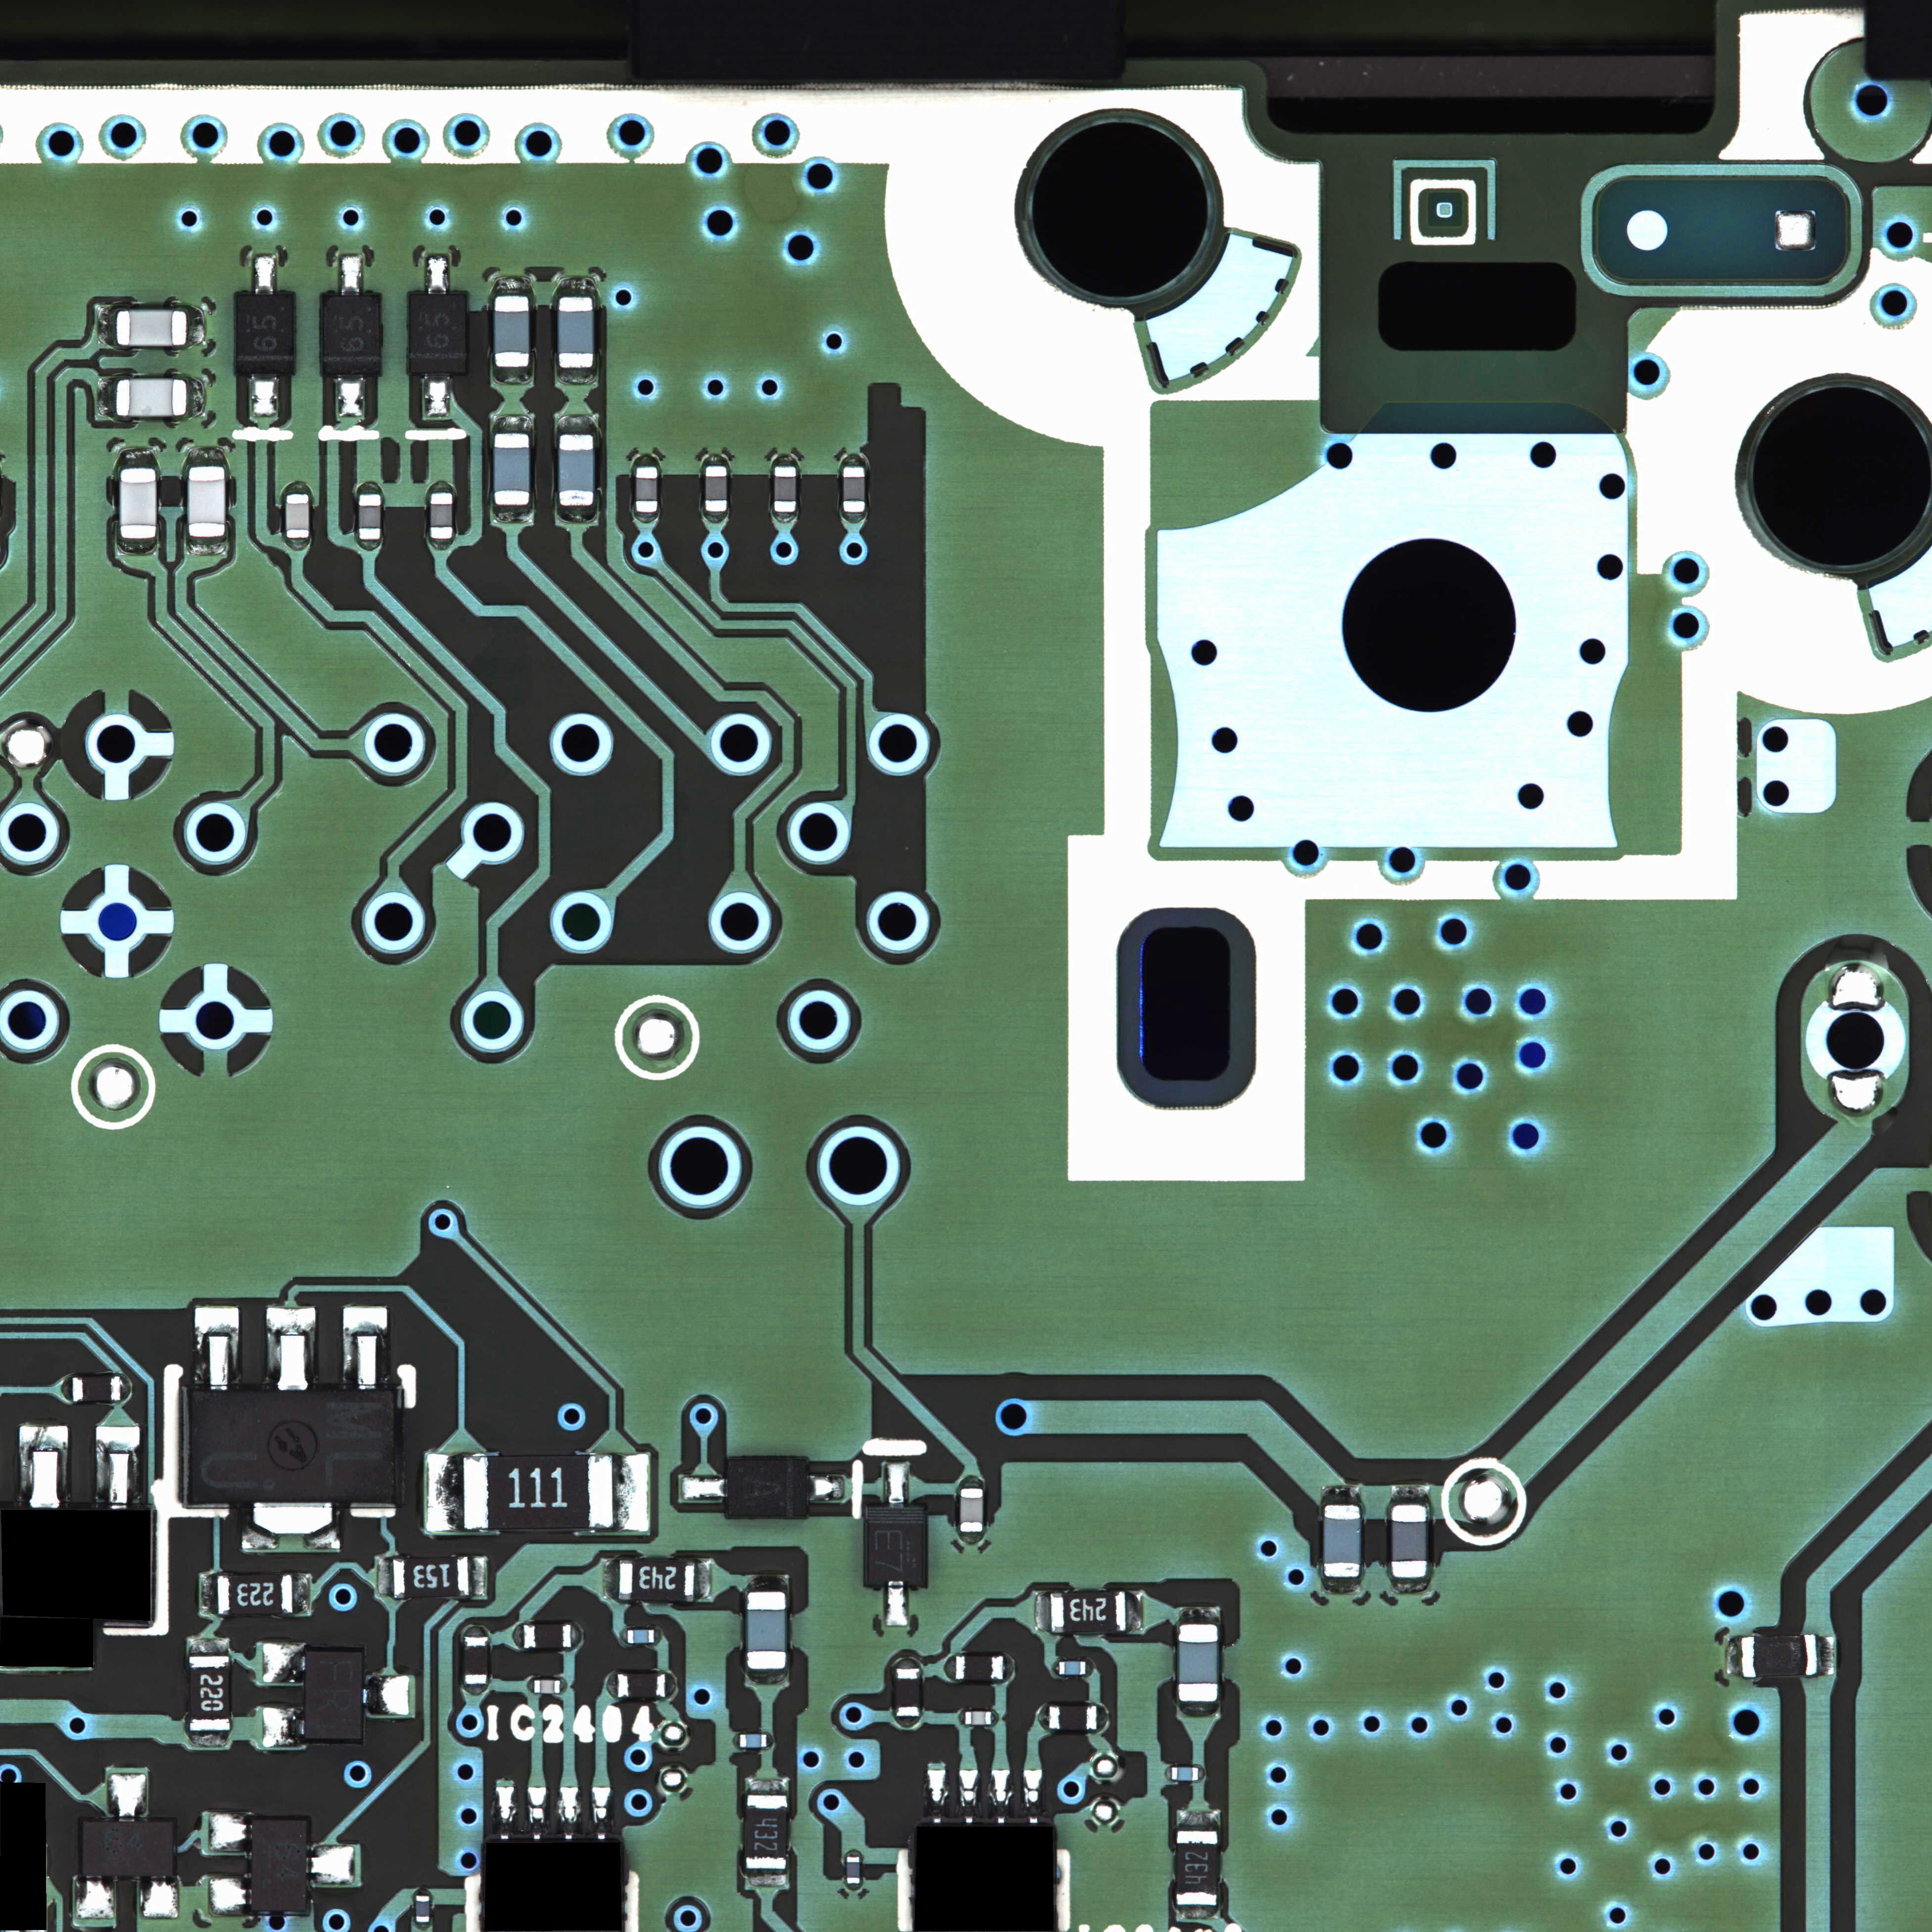Package: (191, 1391, 393, 1502), (464, 1458, 614, 1529), (253, 1819, 306, 1911), (306, 1652, 363, 1737), (83, 1822, 173, 1875), (410, 295, 467, 375), (324, 295, 379, 375), (239, 295, 294, 373), (729, 1461, 807, 1516), (867, 1507, 924, 1582), (1178, 1624, 1219, 1702), (619, 1559, 694, 1601), (188, 1656, 230, 1730), (1743, 1635, 1817, 1677), (747, 1796, 787, 1870), (1177, 1831, 1217, 1905), (747, 1592, 786, 1668), (395, 1557, 469, 1596), (1053, 1592, 1125, 1631), (218, 1576, 292, 1614), (1323, 1504, 1361, 1576), (1391, 1506, 1428, 1578), (494, 295, 531, 366), (557, 297, 594, 368), (188, 467, 225, 538), (494, 433, 529, 506), (117, 310, 188, 345), (117, 380, 188, 416), (559, 435, 594, 506), (120, 469, 156, 538), (73, 1376, 120, 1401), (955, 1656, 1003, 1681), (895, 1668, 920, 1716), (428, 492, 453, 538), (524, 1624, 571, 1647), (465, 1637, 488, 1684), (617, 1674, 665, 1697), (1051, 1706, 1097, 1729), (961, 1488, 984, 1532), (359, 494, 380, 540), (706, 465, 727, 511), (775, 465, 796, 511), (287, 494, 308, 538), (844, 467, 865, 511), (637, 467, 656, 511), (846, 1856, 860, 1884), (628, 1629, 655, 1644), (416, 1895, 430, 1921), (740, 1734, 768, 1746), (1171, 1767, 1200, 1780), (534, 1681, 561, 1693), (1060, 1661, 1086, 1674), (964, 1713, 991, 1725)
Solder: (242, 1504, 340, 1548), (265, 1307, 317, 1391), (18, 1424, 69, 1506), (195, 1307, 239, 1391), (343, 1307, 387, 1391), (97, 1426, 142, 1509), (428, 1453, 464, 1532), (614, 1454, 649, 1532), (108, 1773, 147, 1822), (363, 1675, 409, 1716), (308, 1845, 356, 1884), (209, 1877, 253, 1918), (262, 1707, 306, 1748), (209, 1812, 251, 1852), (264, 1642, 306, 1683), (76, 1877, 115, 1920), (140, 1877, 179, 1918), (334, 375, 364, 419), (991, 1769, 1014, 1826), (421, 375, 451, 418), (249, 373, 278, 418), (525, 1787, 548, 1840), (925, 1769, 948, 1822), (495, 1785, 517, 1840), (959, 1769, 980, 1824), (1024, 1769, 1046, 1824), (251, 253, 278, 295), (338, 253, 364, 295), (591, 1789, 612, 1842), (807, 1474, 846, 1502), (885, 1463, 909, 1507), (885, 1582, 909, 1626), (561, 1787, 580, 1842), (681, 1476, 727, 1499), (425, 253, 449, 294), (184, 446, 228, 467), (96, 375, 115, 419), (1125, 1591, 1145, 1633), (115, 448, 157, 467), (556, 414, 598, 433), (492, 506, 534, 525), (97, 303, 115, 349), (1391, 1484, 1431, 1504), (492, 276, 533, 295), (188, 1730, 230, 1748), (695, 1559, 713, 1601), (745, 1870, 787, 1888), (1320, 1486, 1362, 1504), (184, 538, 226, 556), (556, 278, 598, 295), (1178, 1810, 1219, 1828), (1033, 1592, 1051, 1633), (117, 540, 157, 557), (492, 368, 533, 386), (494, 414, 534, 432), (557, 506, 598, 524), (1817, 1635, 1835, 1675), (189, 379, 207, 418), (294, 1575, 310, 1617), (202, 1573, 218, 1615), (747, 1575, 789, 1591), (747, 1778, 789, 1794), (1178, 1702, 1221, 1718), (1178, 1606, 1221, 1622), (1323, 1576, 1361, 1594), (189, 1638, 230, 1654), (603, 1559, 619, 1599), (747, 1670, 787, 1686), (1391, 1578, 1431, 1594), (189, 306, 205, 347), (471, 1557, 487, 1596), (556, 370, 598, 384), (1727, 1635, 1741, 1675), (379, 1557, 393, 1596), (1177, 1907, 1221, 1920), (1037, 1702, 1049, 1730), (356, 481, 382, 494), (285, 481, 311, 494), (840, 453, 867, 465), (1003, 1652, 1014, 1683), (464, 1684, 488, 1697), (959, 1532, 984, 1545), (357, 540, 382, 552), (704, 513, 729, 525), (571, 1622, 582, 1651), (771, 455, 800, 465), (62, 1375, 73, 1401), (895, 1718, 922, 1729), (667, 1672, 678, 1698), (511, 1622, 522, 1649), (1097, 1704, 1108, 1730), (943, 1654, 954, 1681), (285, 540, 311, 550), (633, 455, 660, 465), (702, 455, 729, 465), (120, 1376, 131, 1401), (428, 479, 453, 490), (430, 540, 455, 550), (842, 513, 867, 524), (773, 515, 798, 525), (961, 1476, 984, 1486), (635, 515, 658, 525), (895, 1658, 918, 1667), (465, 1626, 487, 1635), (561, 1677, 568, 1695), (1086, 1660, 1093, 1677), (414, 1888, 430, 1895), (619, 1626, 626, 1642), (525, 1677, 533, 1693), (768, 1732, 775, 1748), (846, 1849, 862, 1856), (847, 1884, 863, 1891), (993, 1711, 1000, 1727), (957, 1709, 964, 1725), (656, 1626, 662, 1644), (732, 1730, 738, 1748), (1200, 1766, 1205, 1782), (1164, 1766, 1169, 1782), (1053, 1660, 1058, 1674)
